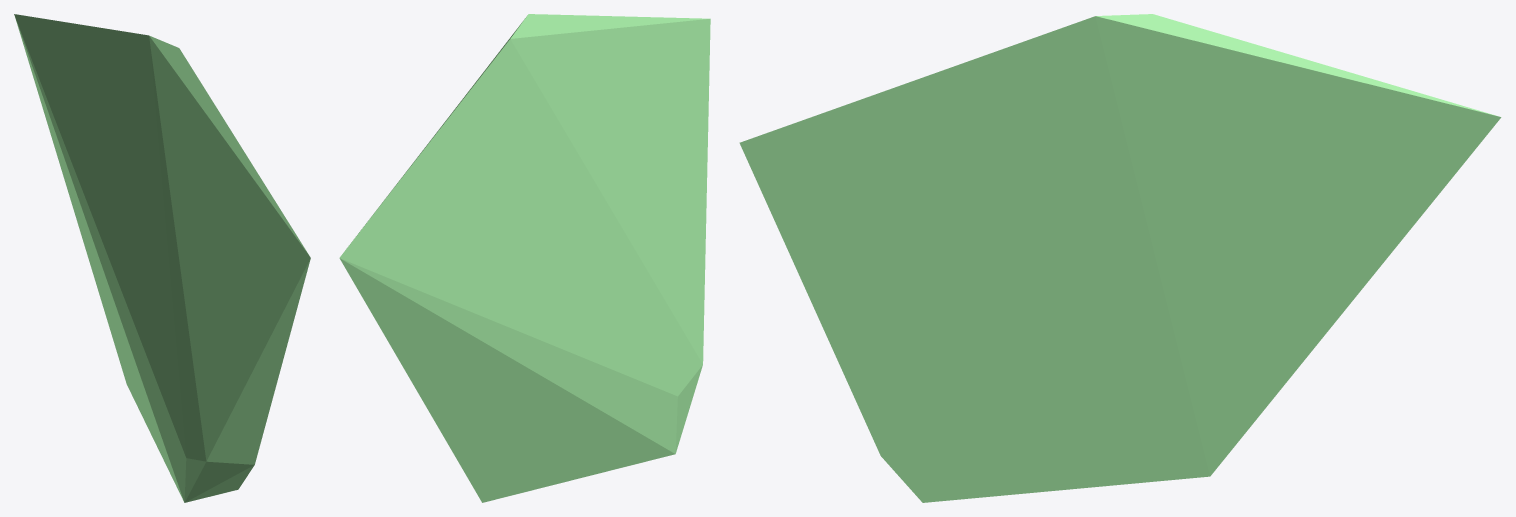
Rendered from linkhou_LR4_R560_link7_respondable_coll_17.dae.
3 renders of one model, left to right at view 1: azimuth 30°, elevation 25°; view 2: azimuth 150°, elevation 25°; view 3: azimuth 270°, elevation 25°, orthographic. The views are drawn at different scales.
Parts seen in each view (by area): view 1: Node_0000029808434150; view 2: Node_0000029808434150; view 3: Node_0000029808434150.
Part boxes in pixels (<box>): Node_0000029808434150: <box>14,14,310,502</box>; Node_0000029808434150: <box>339,14,710,502</box>; Node_0000029808434150: <box>739,14,1501,502</box>.
Bounding box in the file's own units: 0.00357 × 0.0231 × 0.032.
